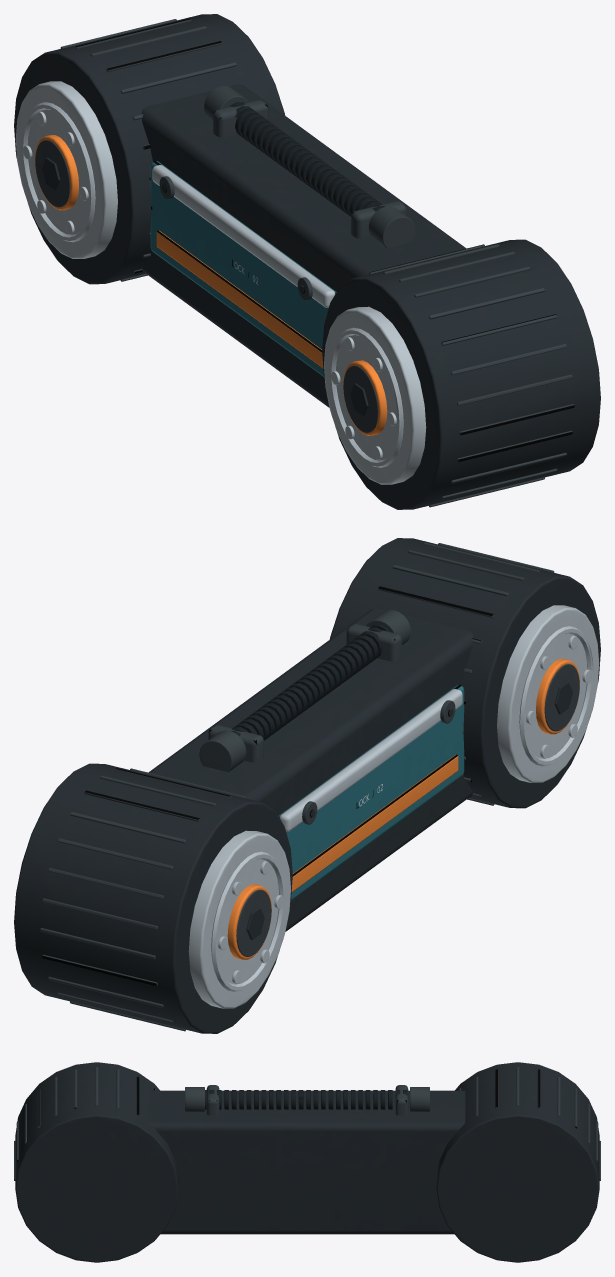
The model's file is SM_RoadMonitorArm_V2_UE.fbx.
3 views of the same model, one above another, from view 1: azimuth 30°, elevation 25°; view 2: azimuth 150°, elevation 25°; view 3: azimuth 270°, elevation 25° (orthographic). The views are drawn at different scales.
Visible parts, largest first — view 1: PR_UE_Export_Arm; view 2: PR_UE_Export_Arm; view 3: PR_UE_Export_Arm.
Boxes of the visible parts, x1,y1,x2,y2 form: PR_UE_Export_Arm: (14,14,600,509); PR_UE_Export_Arm: (14,538,600,1033); PR_UE_Export_Arm: (14,1062,600,1262).
Size of the model in its own units: 16.17 by 4 by 4.57.
